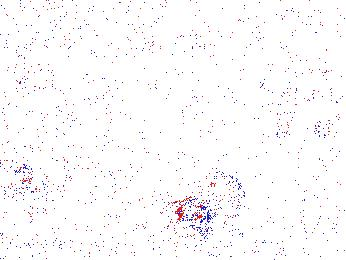flame jellyfish: (171, 169, 248, 223), (256, 65, 309, 139), (1, 168, 46, 215)
